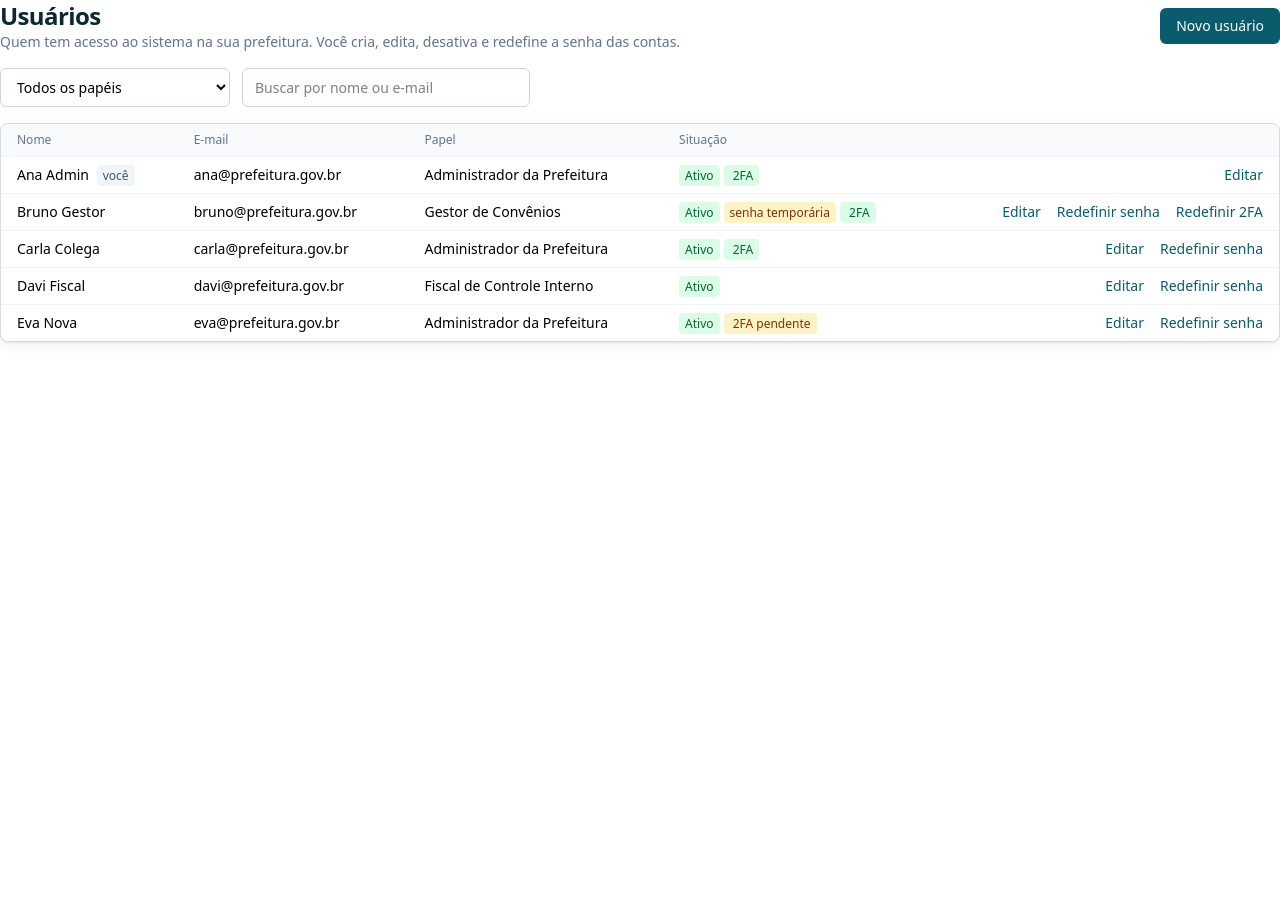
Test case: tela de usuários › 2FA › senha errada mantém a janela aberta com o erro
The width and height of the screenshot is (1280, 900).
Click the button "Redefinir 2FA" at point(1219, 212), box [1176, 202, 1263, 222]
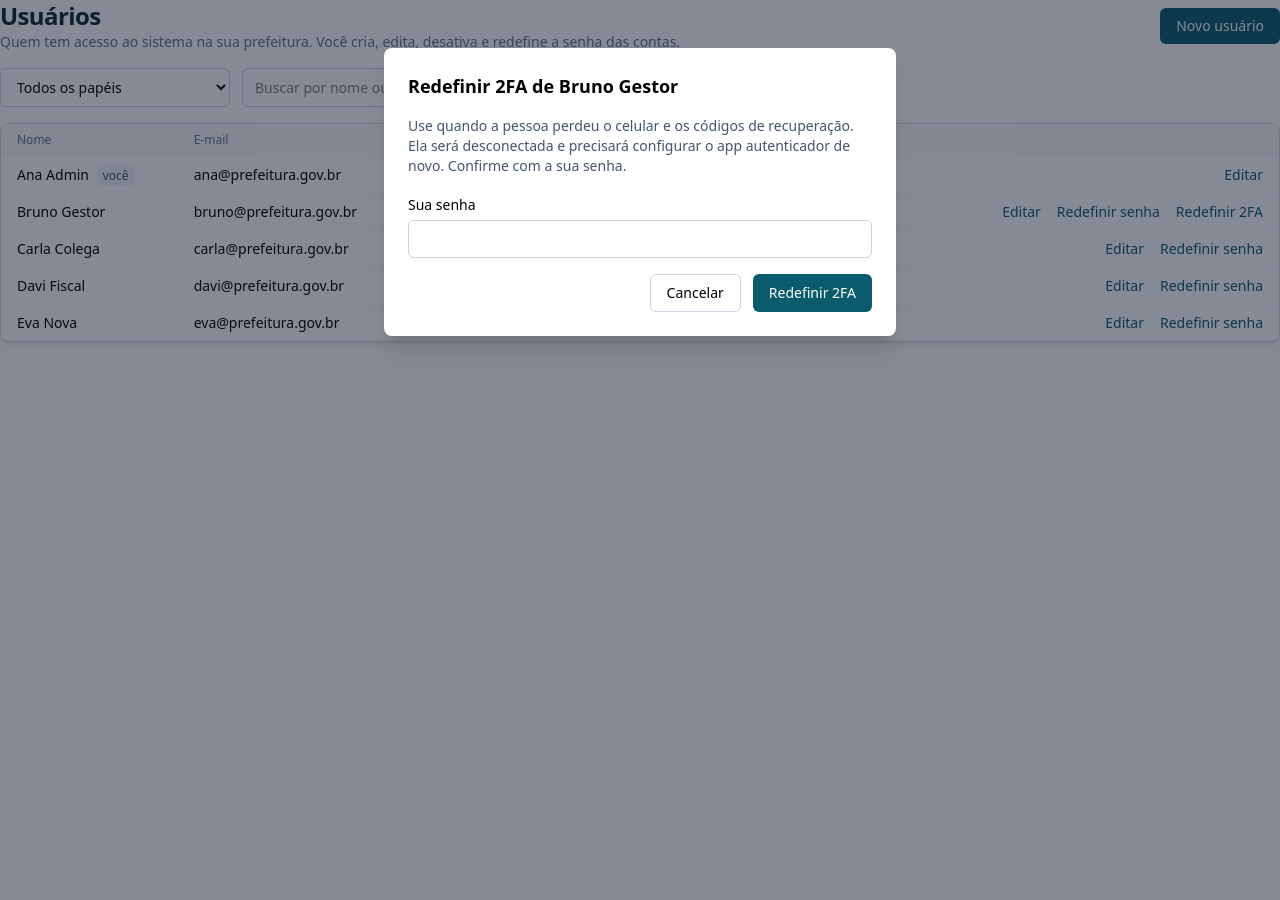
Type "errada" into the password field with id "confirmar-senha" at point(640, 239), box [408, 220, 872, 258]
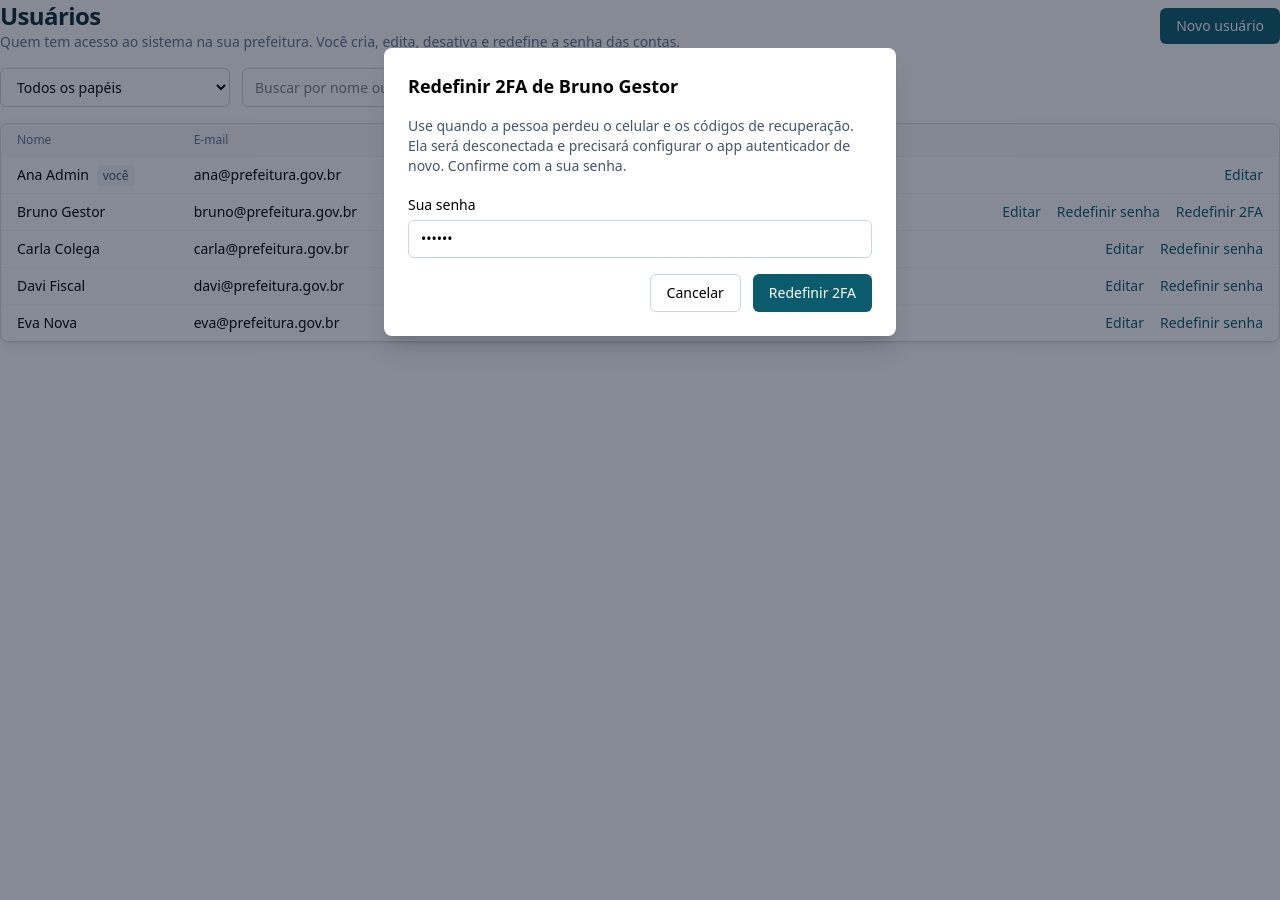
Submit the form, box [408, 116, 872, 312]
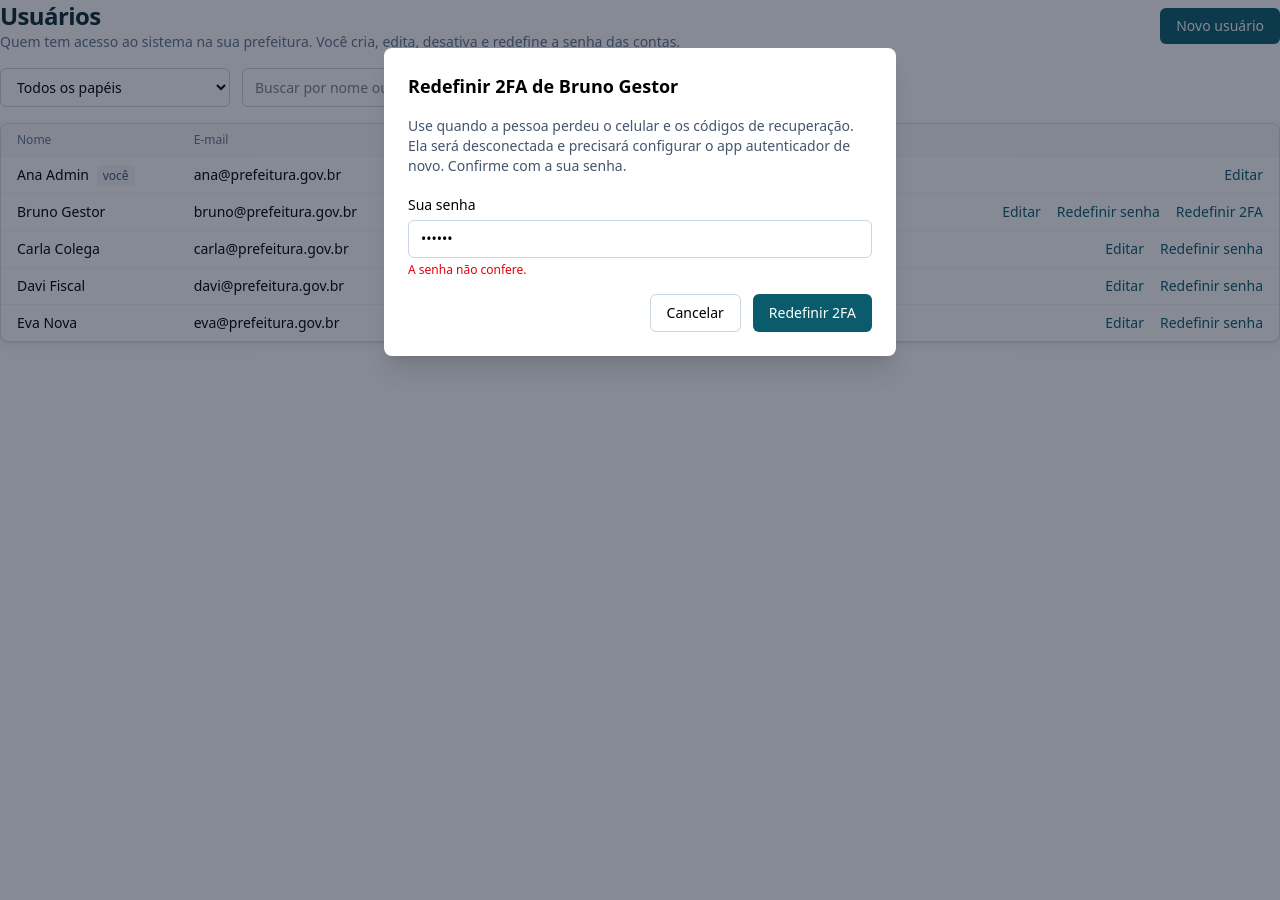
Check: the element that starts with "Redefinir 2FA de Bruno Gestor" shows "A senha não confere.", box [408, 261, 527, 278]
